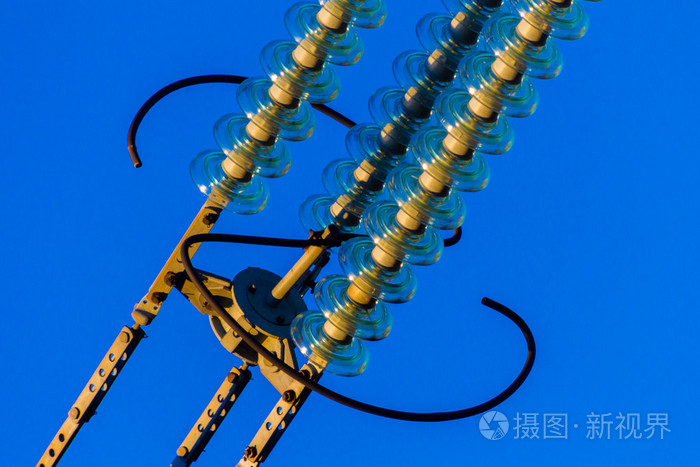insulator: (292, 1, 589, 376), (195, 1, 361, 217)
